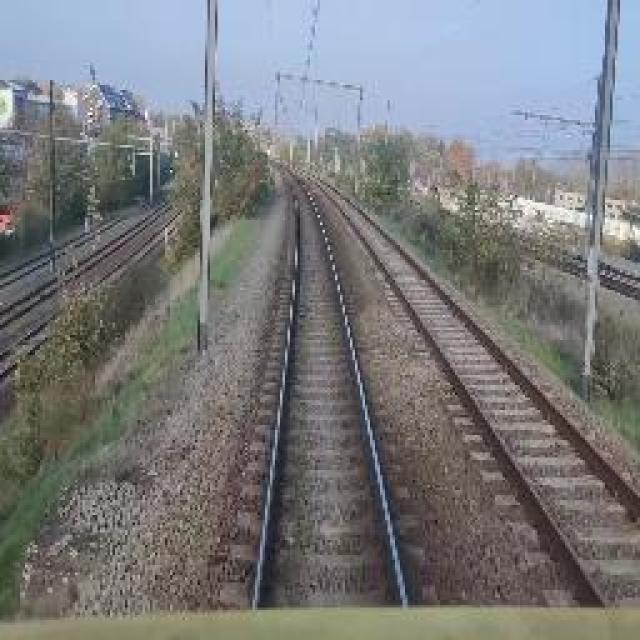rail: (311, 179, 640, 607), (209, 156, 450, 611)
